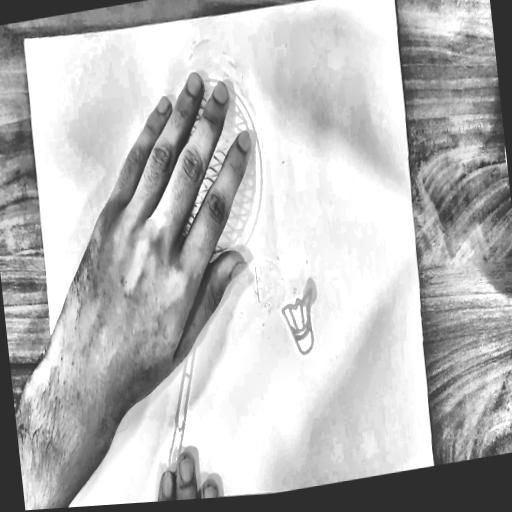badminton: (102, 60, 345, 498)
bottom_left: (62, 499, 71, 508)
top_left: (21, 33, 29, 47)
top_right: (388, 0, 398, 0)
